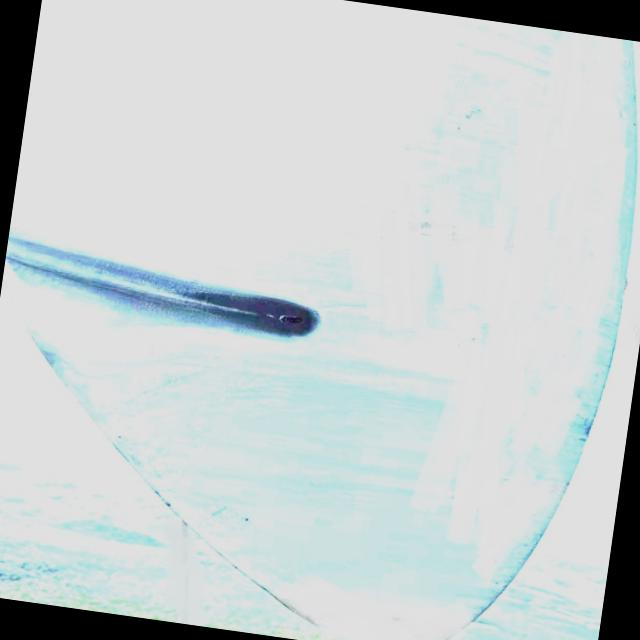crack: (12, 238, 326, 346)
